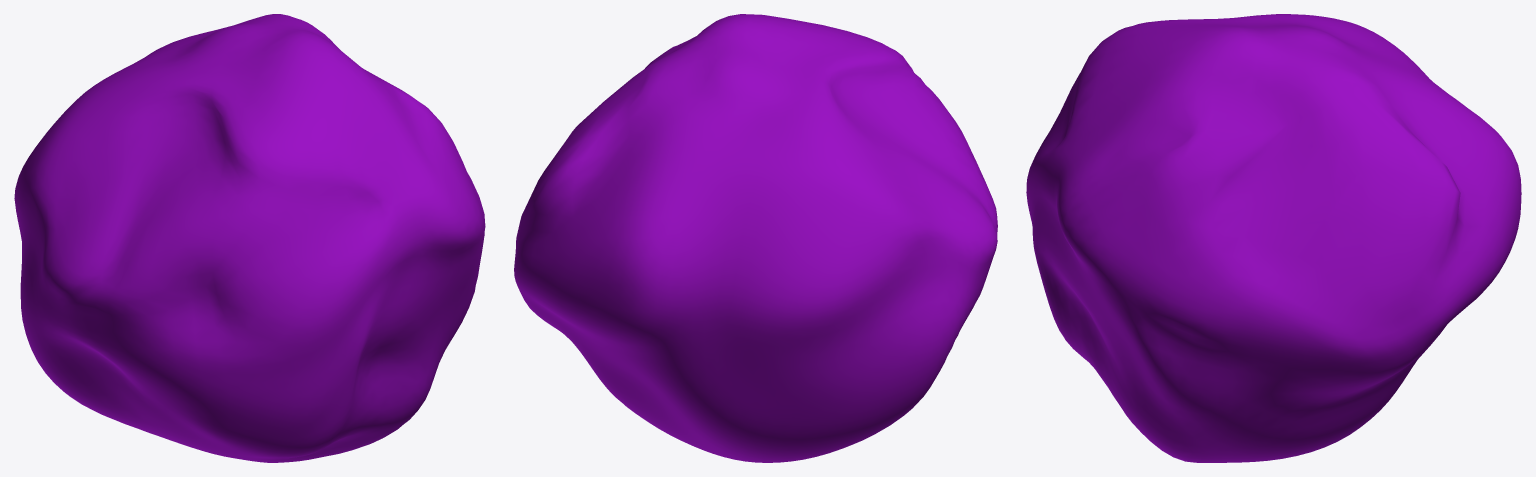
File: nucleolo.glb
3 renders of one model, left to right at view 1: azimuth 30°, elevation 25°; view 2: azimuth 150°, elevation 25°; view 3: azimuth 270°, elevation 25°, orthographic. The views are drawn at different scales.
Visible parts, largest first — view 1: Roundcube.001; view 2: Roundcube.001; view 3: Roundcube.001.
Boxes of the visible parts, x1,y1,x2,y2 form: Roundcube.001: [14, 14, 485, 462]; Roundcube.001: [514, 14, 997, 462]; Roundcube.001: [1026, 14, 1521, 462].
Size of the model in its own units: 0.5324 by 0.4988 by 0.5322.
